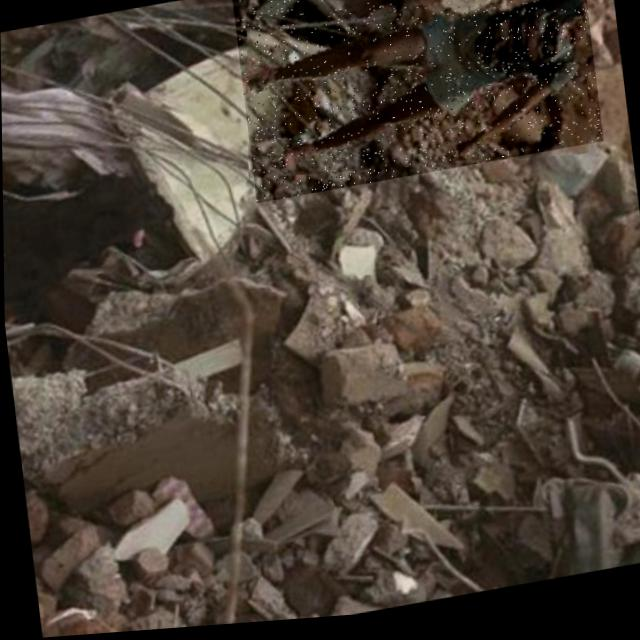Person in Rubble: (229, 0, 602, 208)
